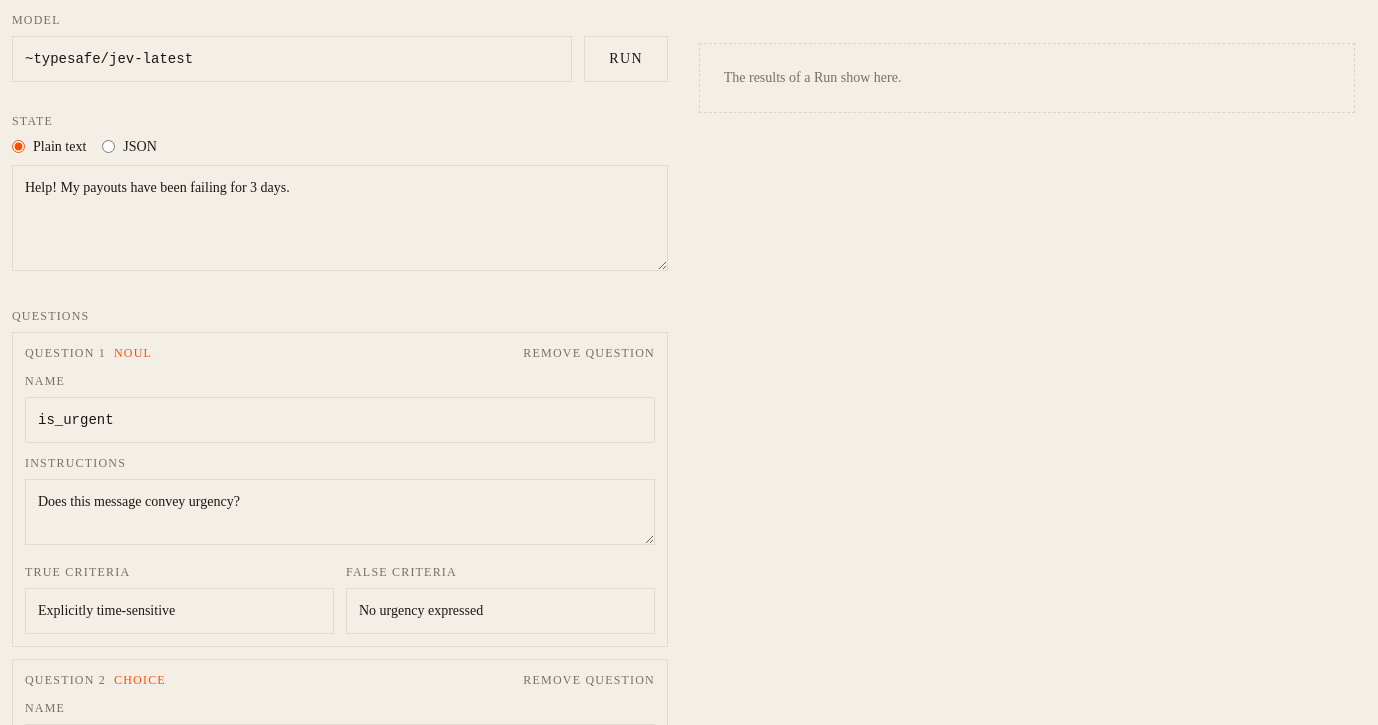
Test case: Options panel: question builder › refuses a Run with no questions
Step 1. Click the 1st button "Remove question" → x=589, y=353, box left=523, top=345, right=655, bottom=361
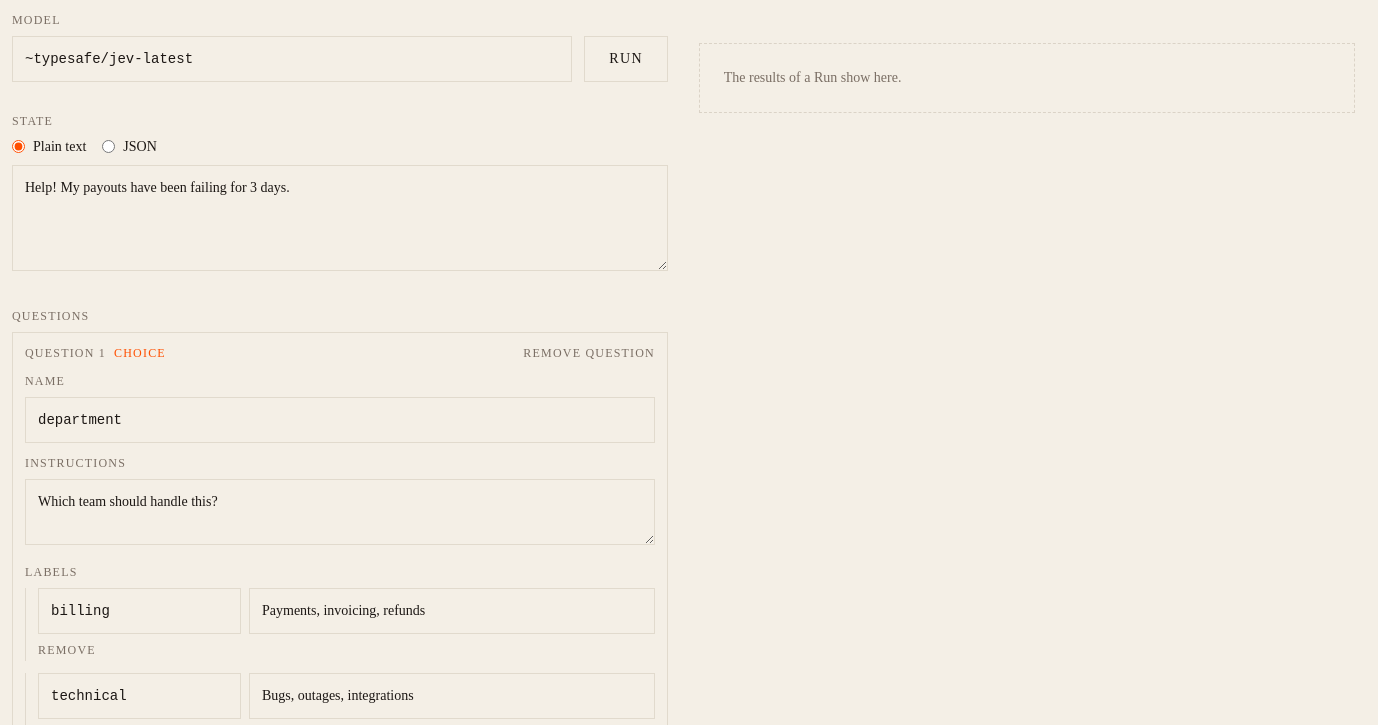
Step 2. Click the button "Remove question" → x=589, y=353, box left=523, top=345, right=655, bottom=361
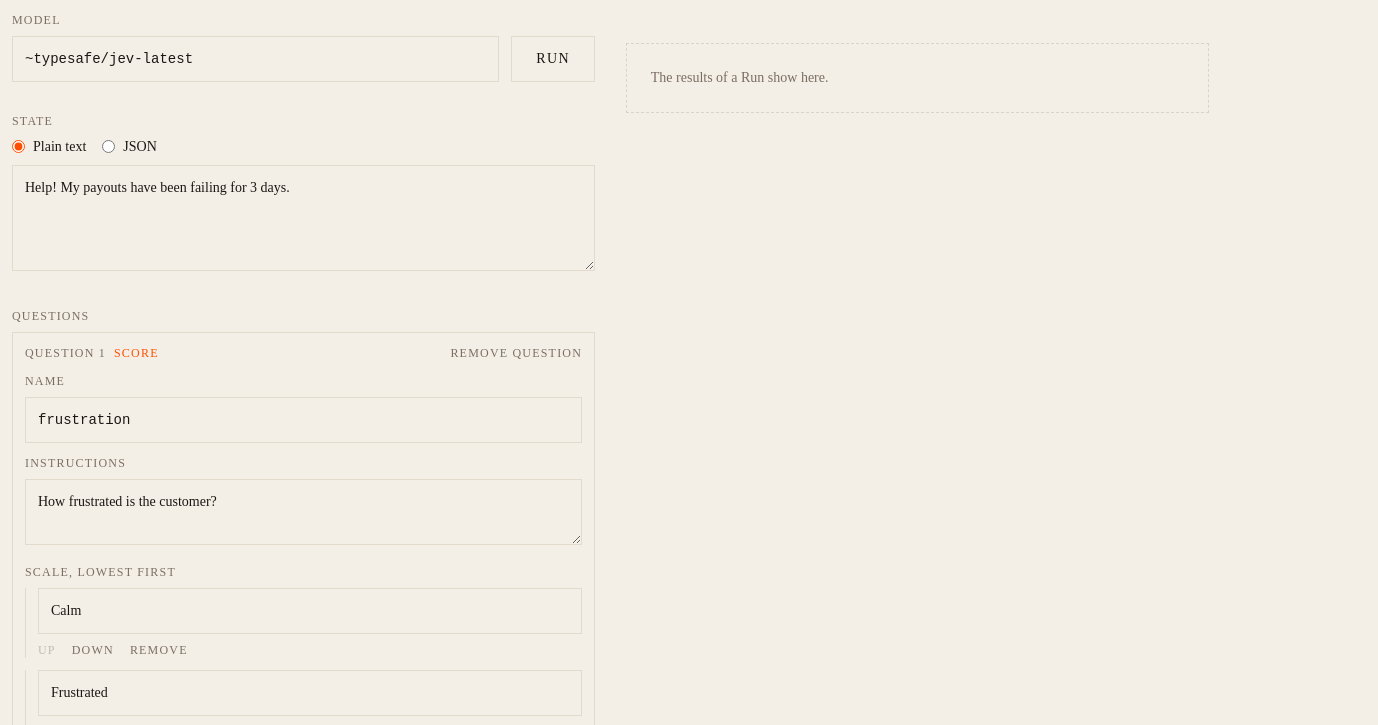
Step 3. Click the button "Remove question" → x=516, y=353, box left=450, top=345, right=582, bottom=361
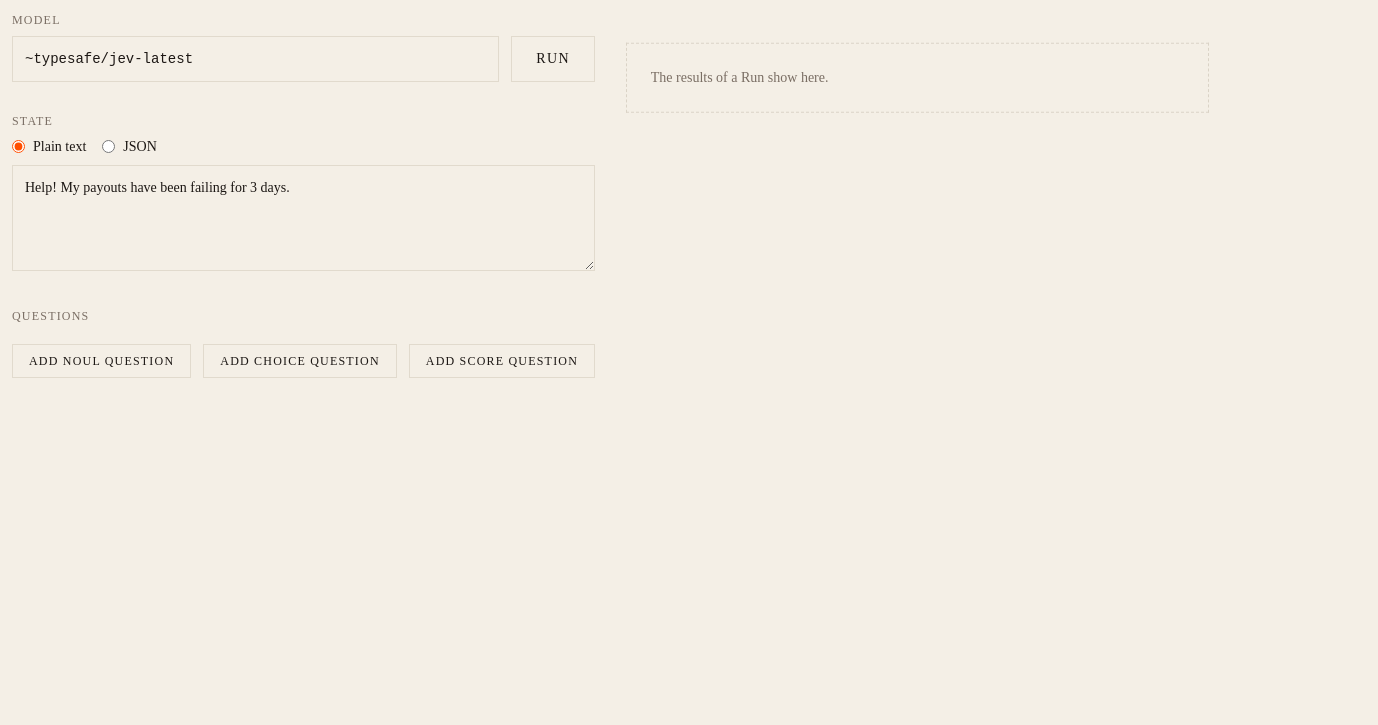
Expected: the element "Question 1score" is gone
Step 4. Click the button "Run" → x=553, y=59, box left=511, top=36, right=595, bottom=82
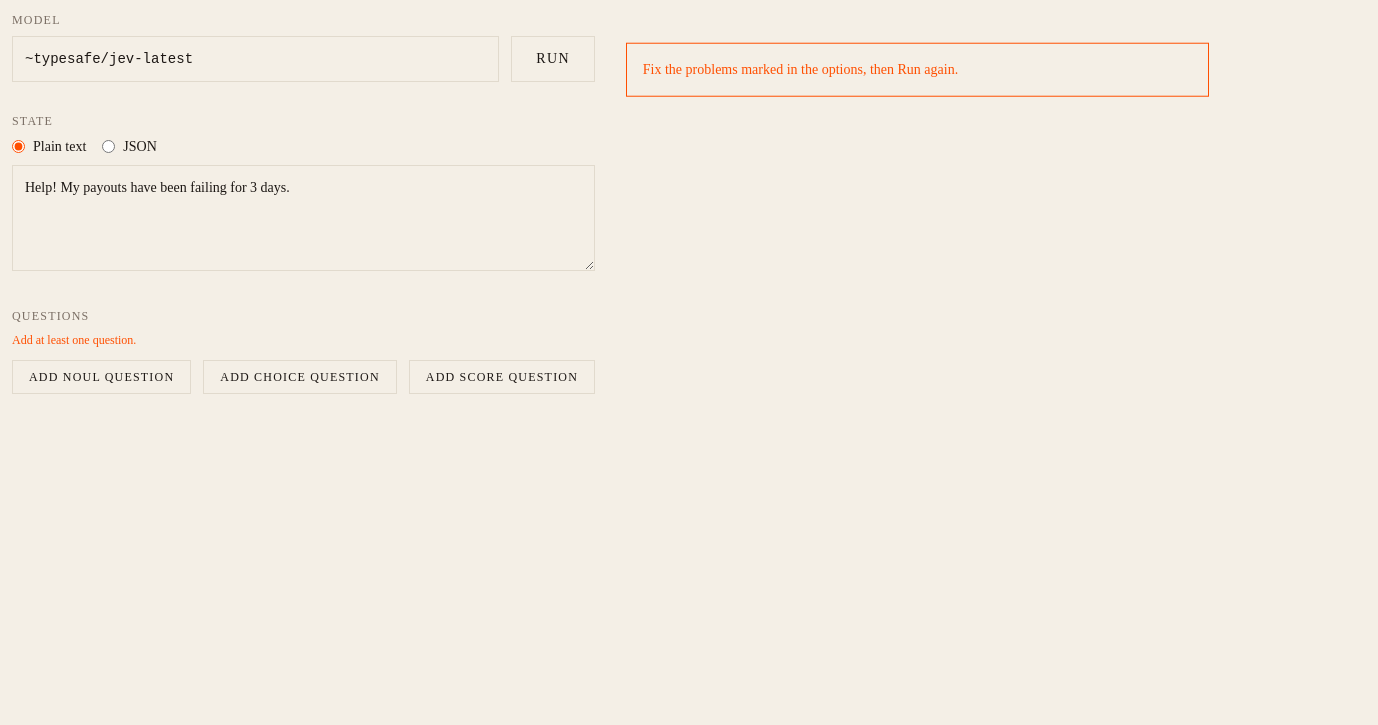
Expected: the text "Add at least one question." is shown, left=12, top=333, right=136, bottom=347
